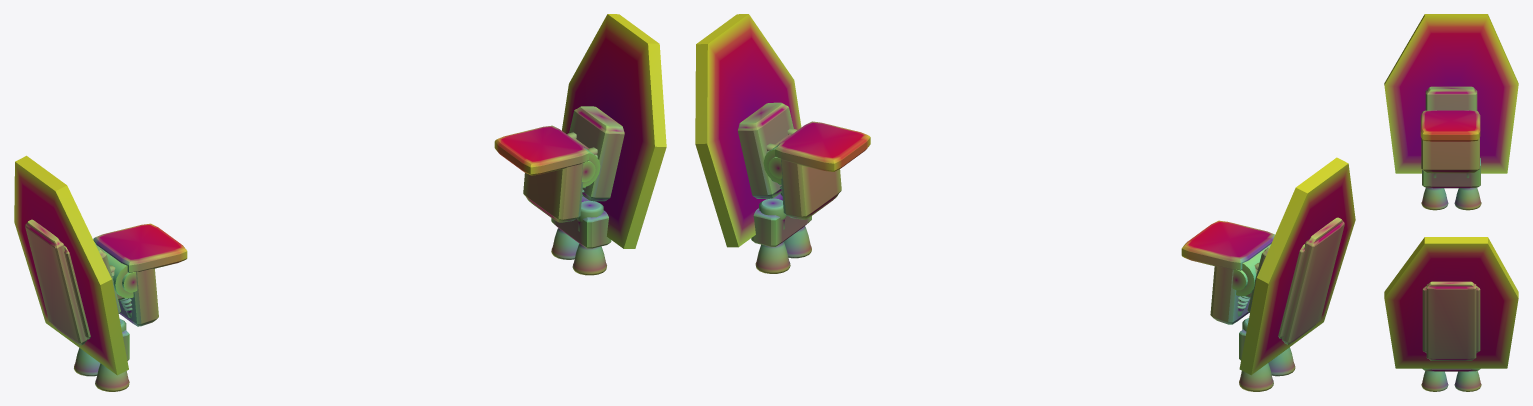
Rendered from llm_gen_shoulder_pods_040_abbeff.glb.
The picture shows the model from 3 angles, left to right: view 1: azimuth 30°, elevation 25°; view 2: azimuth 150°, elevation 25°; view 3: azimuth 270°, elevation 25°; orthographic projection. The views are drawn at different scales.
Parts seen in each view (by area): view 1: binder_shield_wing_2_wing_white_r, binder_shield_wing_2_wing_white_l, adapter_shoulder_yoke_r, adapter_shoulder_yoke_l, binder_trim_blue_4_fuselage_l, adapter_sub_wing_clevis_dark_1_adapter_dark_r, adapter_sub_exhaust_pod_dark_5_adapter_dark_r, binder_vernier_b_7_vernier_bell_vernier_r, binder_vernier_b_7_vernier_bell_vernier_l, binder_vernier_a_6_vernier_bell_vernier_r, adapter_sub_trim_clamp_dark_3_adapter_dark_l; view 2: binder_shield_wing_2_wing_white_r, binder_shield_wing_2_wing_white_l, adapter_shoulder_yoke_r, adapter_shoulder_yoke_l, binder_trim_blue_4_fuselage_l, adapter_sub_wing_clevis_dark_1_adapter_dark_r, adapter_sub_exhaust_pod_dark_5_adapter_dark_r, binder_vernier_a_6_vernier_bell_vernier_r, binder_vernier_a_6_vernier_bell_vernier_l, binder_vernier_b_7_vernier_bell_vernier_r, adapter_sub_trim_clamp_dark_3_adapter_dark_l; view 3: binder_shield_wing_2_wing_white_l, binder_shield_wing_2_wing_white_r, binder_trim_blue_4_fuselage_r, adapter_shoulder_yoke_l, adapter_sub_wing_clevis_dark_1_adapter_dark_l, adapter_sub_exhaust_pod_dark_5_adapter_dark_l, adapter_sub_trim_clamp_dark_3_adapter_dark_r, binder_vernier_a_6_vernier_bell_vernier_l, binder_vernier_b_7_vernier_bell_vernier_l, binder_vernier_a_6_vernier_bell_vernier_r, binder_vernier_b_7_vernier_bell_vernier_r, adapter_sub_exhaust_pod_dark_5_adapter_dark_r.
Part boxes in pixels (left/top/right/bottom): binder_shield_wing_2_wing_white_r: left=562, top=14, right=666, bottom=248; binder_shield_wing_2_wing_white_l: left=14, top=155, right=128, bottom=375; adapter_shoulder_yoke_r: left=494, top=125, right=600, bottom=222; adapter_shoulder_yoke_l: left=93, top=223, right=187, bottom=326; binder_trim_blue_4_fuselage_l: left=25, top=219, right=87, bottom=345; adapter_sub_wing_clevis_dark_1_adapter_dark_r: left=569, top=106, right=624, bottom=201; adapter_sub_exhaust_pod_dark_5_adapter_dark_r: left=551, top=196, right=611, bottom=248; binder_vernier_b_7_vernier_bell_vernier_r: left=572, top=243, right=606, bottom=275; binder_vernier_b_7_vernier_bell_vernier_l: left=95, top=363, right=129, bottom=391; binder_vernier_a_6_vernier_bell_vernier_r: left=551, top=228, right=579, bottom=259; adapter_sub_trim_clamp_dark_3_adapter_dark_l: left=64, top=245, right=90, bottom=339; binder_shield_wing_2_wing_white_r: left=695, top=14, right=801, bottom=247; binder_shield_wing_2_wing_white_l: left=1239, top=157, right=1355, bottom=375; adapter_shoulder_yoke_r: left=763, top=121, right=870, bottom=219; adapter_shoulder_yoke_l: left=1181, top=220, right=1274, bottom=324; binder_trim_blue_4_fuselage_l: left=1281, top=217, right=1344, bottom=344; adapter_sub_wing_clevis_dark_1_adapter_dark_r: left=738, top=102, right=793, bottom=198; adapter_sub_exhaust_pod_dark_5_adapter_dark_r: left=751, top=193, right=811, bottom=246; binder_vernier_a_6_vernier_bell_vernier_r: left=755, top=242, right=790, bottom=273; binder_vernier_a_6_vernier_bell_vernier_l: left=1239, top=363, right=1273, bottom=391; binder_vernier_b_7_vernier_bell_vernier_r: left=784, top=226, right=811, bottom=258; adapter_sub_trim_clamp_dark_3_adapter_dark_l: left=1278, top=244, right=1304, bottom=338; binder_shield_wing_2_wing_white_l: left=1384, top=14, right=1518, bottom=173; binder_shield_wing_2_wing_white_r: left=1384, top=237, right=1518, bottom=368; binder_trim_blue_4_fuselage_r: left=1426, top=281, right=1476, bottom=360; adapter_shoulder_yoke_l: left=1420, top=110, right=1480, bottom=173; adapter_sub_wing_clevis_dark_1_adapter_dark_l: left=1425, top=86, right=1477, bottom=110; adapter_sub_exhaust_pod_dark_5_adapter_dark_l: left=1422, top=158, right=1480, bottom=188; adapter_sub_trim_clamp_dark_3_adapter_dark_r: left=1422, top=286, right=1480, bottom=353; binder_vernier_a_6_vernier_bell_vernier_l: left=1454, top=187, right=1481, bottom=210; binder_vernier_b_7_vernier_bell_vernier_l: left=1421, top=187, right=1448, bottom=210; binder_vernier_a_6_vernier_bell_vernier_r: left=1454, top=371, right=1481, bottom=391; binder_vernier_b_7_vernier_bell_vernier_r: left=1421, top=371, right=1448, bottom=391; adapter_sub_exhaust_pod_dark_5_adapter_dark_r: left=1422, top=368, right=1480, bottom=371.
Bounding box in the file's own units: 119 × 40.68 × 29.26.
